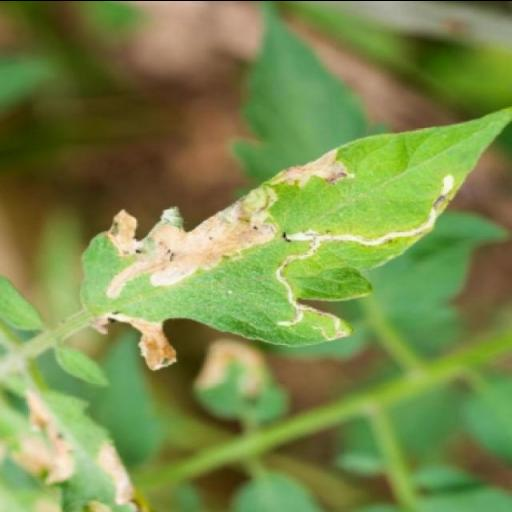disease_tomato: (74, 104, 512, 342)
